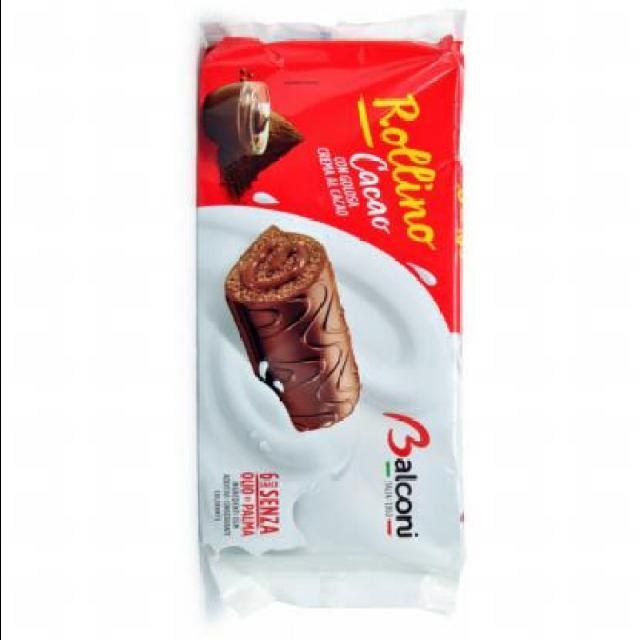Merendine: (196, 3, 470, 620)
